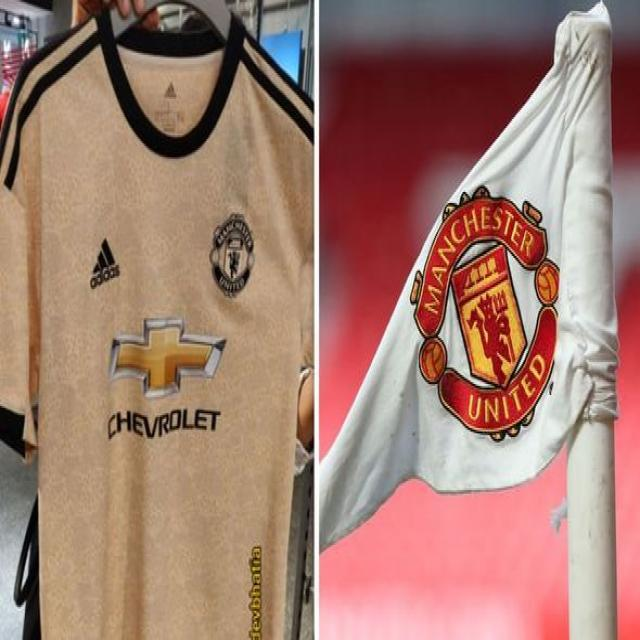Adidas: (87, 238, 122, 293)
Chevrolet: (103, 320, 227, 442)
